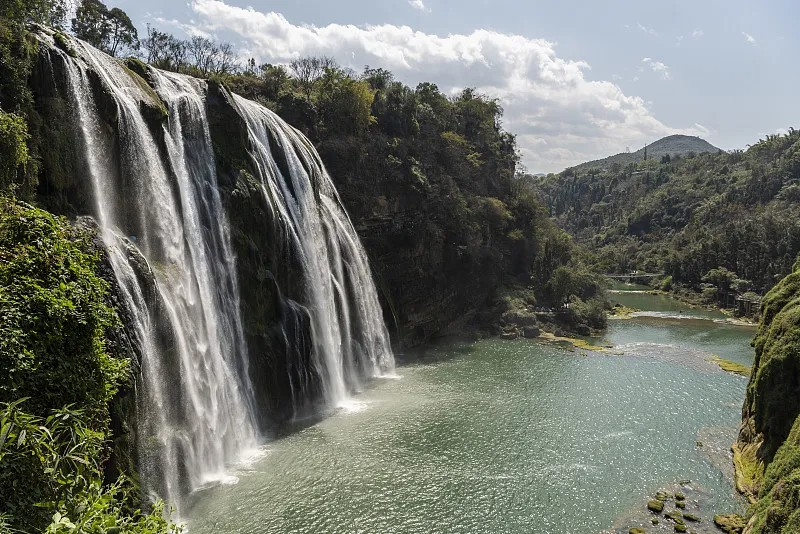Huangguoshu: (48, 27, 394, 504)
